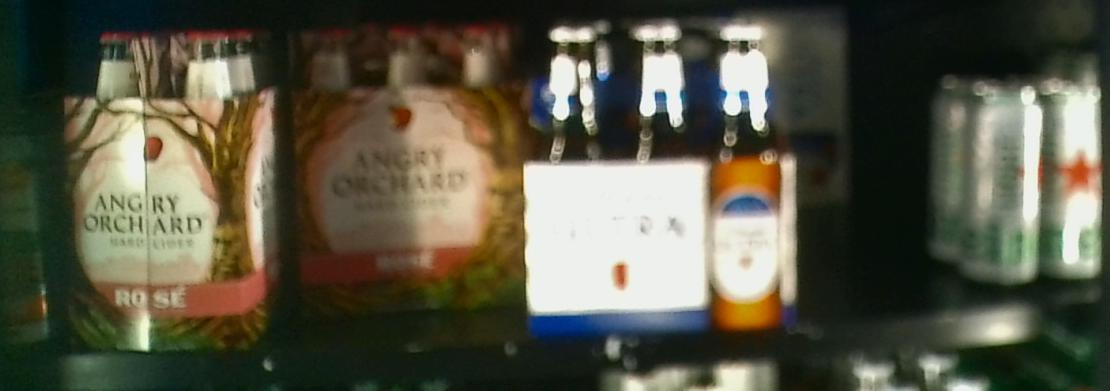bottle: (527, 15, 796, 339), (63, 18, 287, 349), (288, 19, 524, 320)
